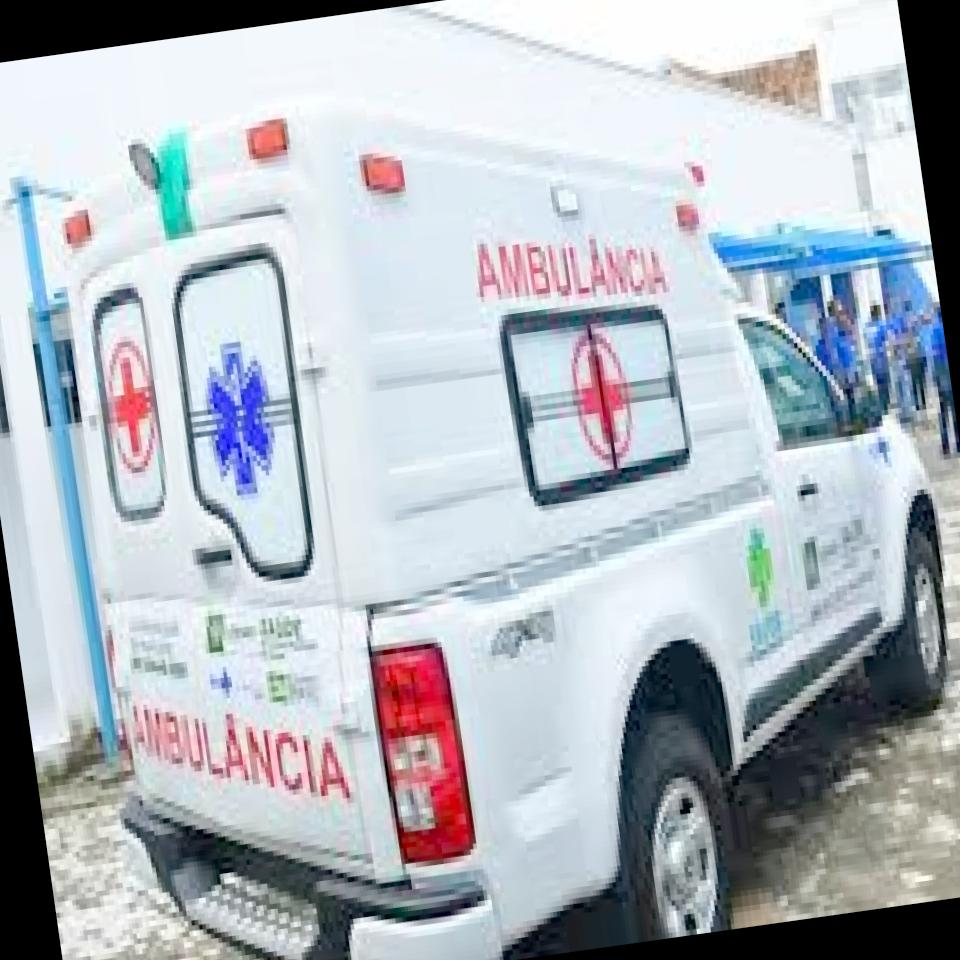bombeiro: (24, 19, 960, 960)
